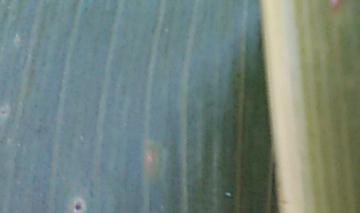tarspot: (73, 202, 82, 212), (1, 109, 7, 117)
